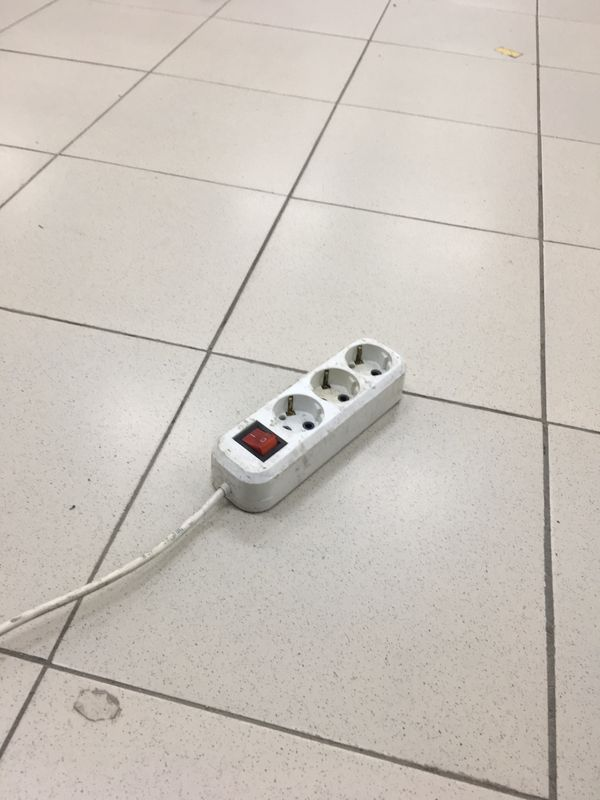socket: (204, 329, 415, 524)
